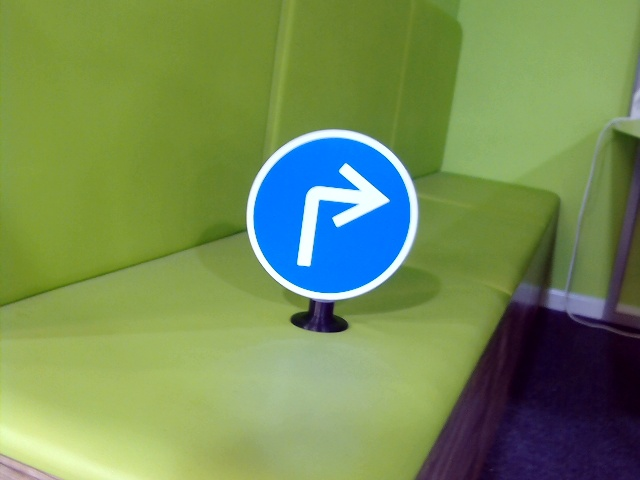turn_right: (287, 161, 391, 265)
